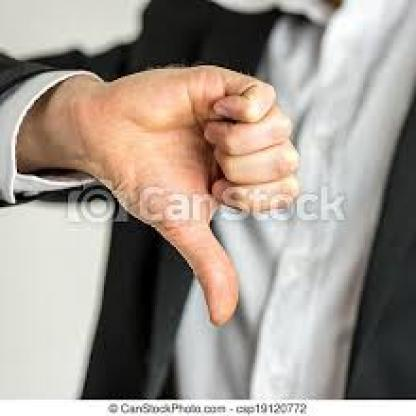thumb_down: (94, 60, 308, 332)
